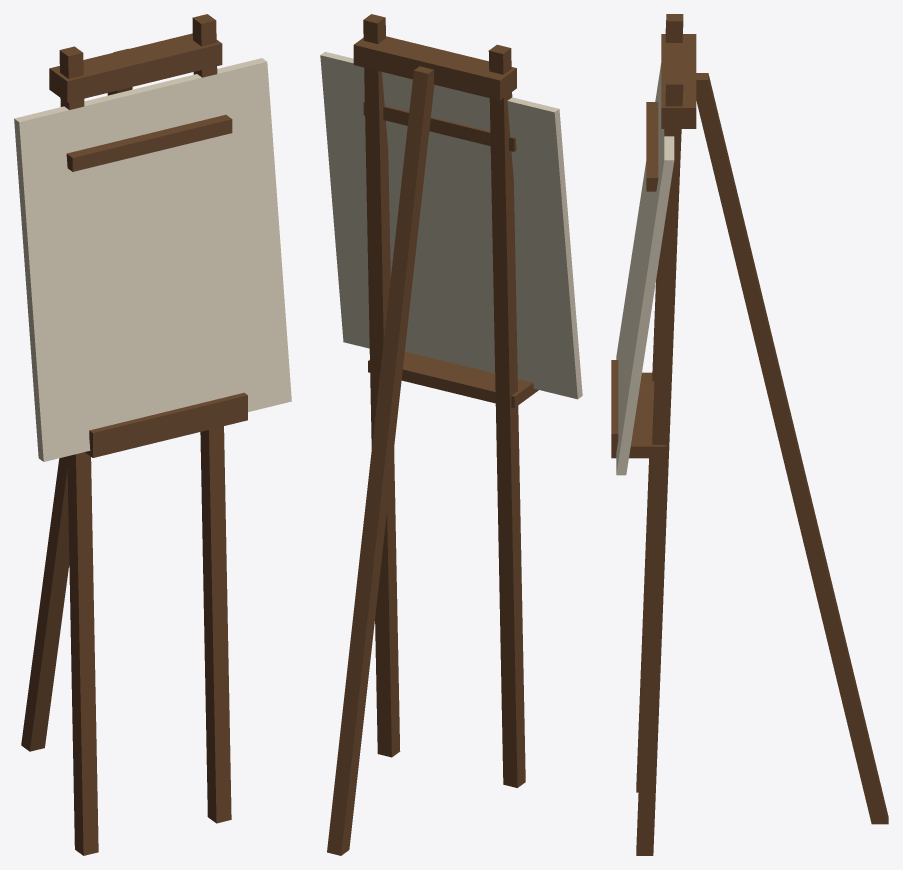
Rendered from FN_Easel_Artist.glb.
3 views of the same model, side by side, from view 1: azimuth 30°, elevation 25°; view 2: azimuth 150°, elevation 25°; view 3: azimuth 270°, elevation 25° (orthographic). The views are drawn at different scales.
Parts seen in each view (by area): view 1: FN_Easel_Artist; view 2: FN_Easel_Artist; view 3: FN_Easel_Artist.
Boxes of the visible parts, x1,y1,x2,y2 form: FN_Easel_Artist: (14,14,291,855); FN_Easel_Artist: (320,14,582,855); FN_Easel_Artist: (611,14,888,855).
Bounding box in the file's own units: 0.56 × 1.7 × 0.554.
1 material, 1 textured.
